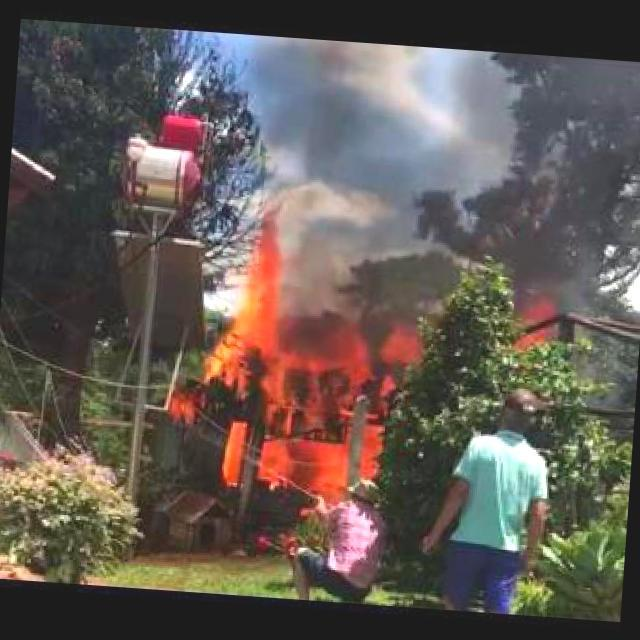Fire: (171, 203, 437, 492), (511, 296, 554, 343)
